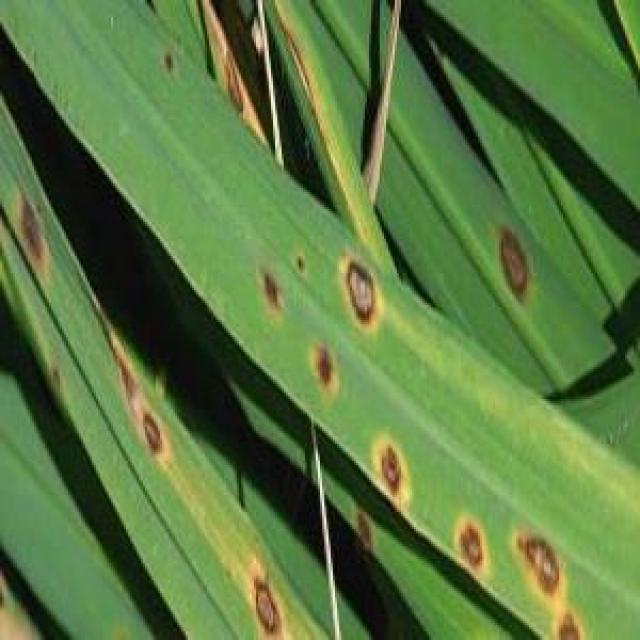brownspots: (358, 433, 427, 499), (330, 253, 394, 324), (508, 534, 578, 598), (484, 226, 544, 292), (239, 570, 290, 636), (17, 196, 56, 269), (215, 44, 254, 114), (298, 342, 352, 388), (446, 518, 495, 566), (128, 408, 171, 458), (248, 264, 290, 312), (108, 346, 138, 394), (290, 256, 307, 273)
